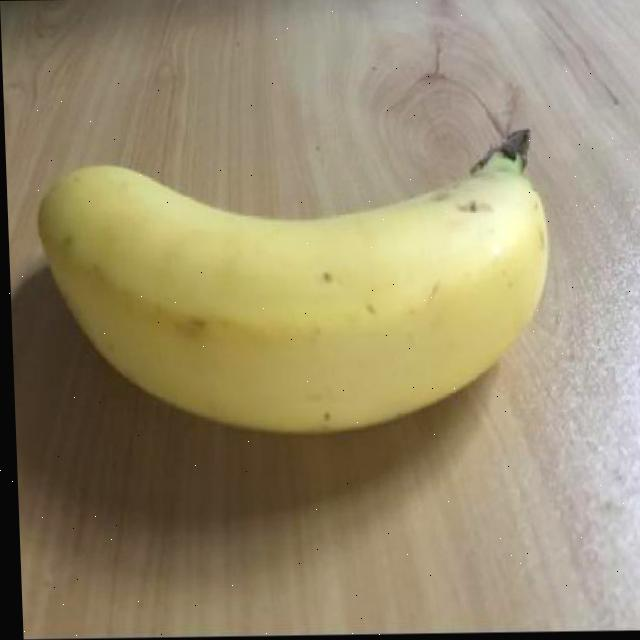banana: (32, 117, 566, 448)
